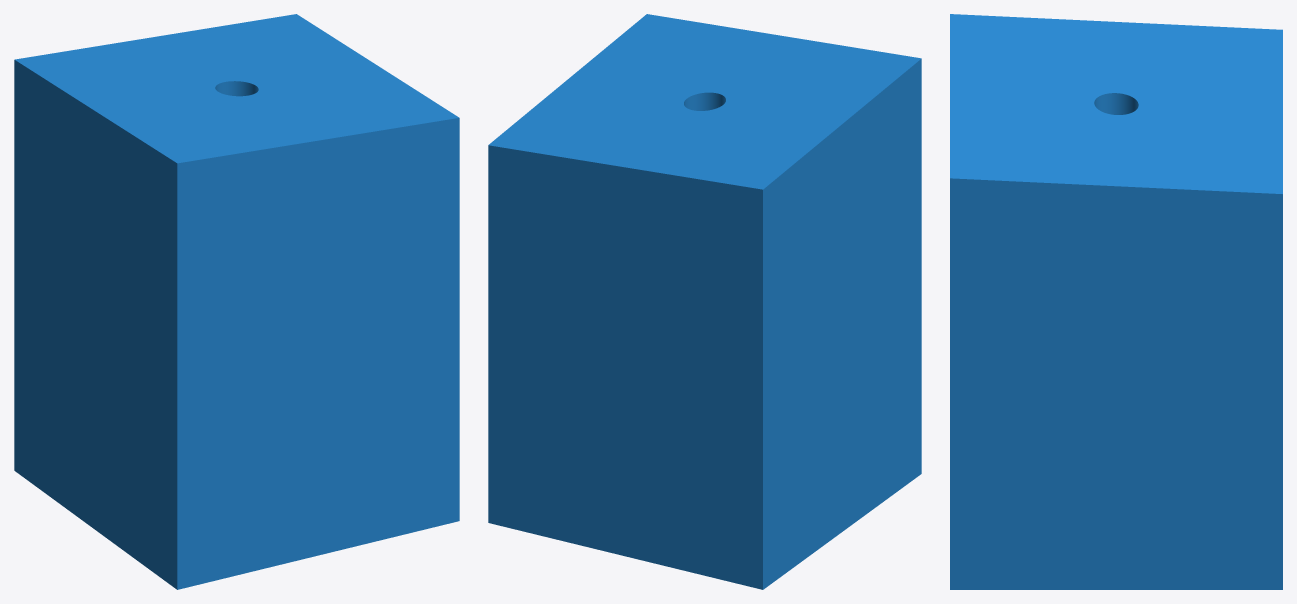
The model's file is bj_calco_0.glb.
3 renders of one model, left to right at view 1: azimuth 30°, elevation 25°; view 2: azimuth 150°, elevation 25°; view 3: azimuth 270°, elevation 25°, orthographic. The views are drawn at different scales.
Parts seen in each view (by area): view 1: bj_calco_0; view 2: bj_calco_0; view 3: bj_calco_0.
Boxes of the visible parts, x1,y1,x2,y2 form: bj_calco_0: [14, 14, 459, 589]; bj_calco_0: [488, 14, 921, 589]; bj_calco_0: [950, 14, 1282, 589].
Size of the model in its own units: 30 by 43.32 by 30.
